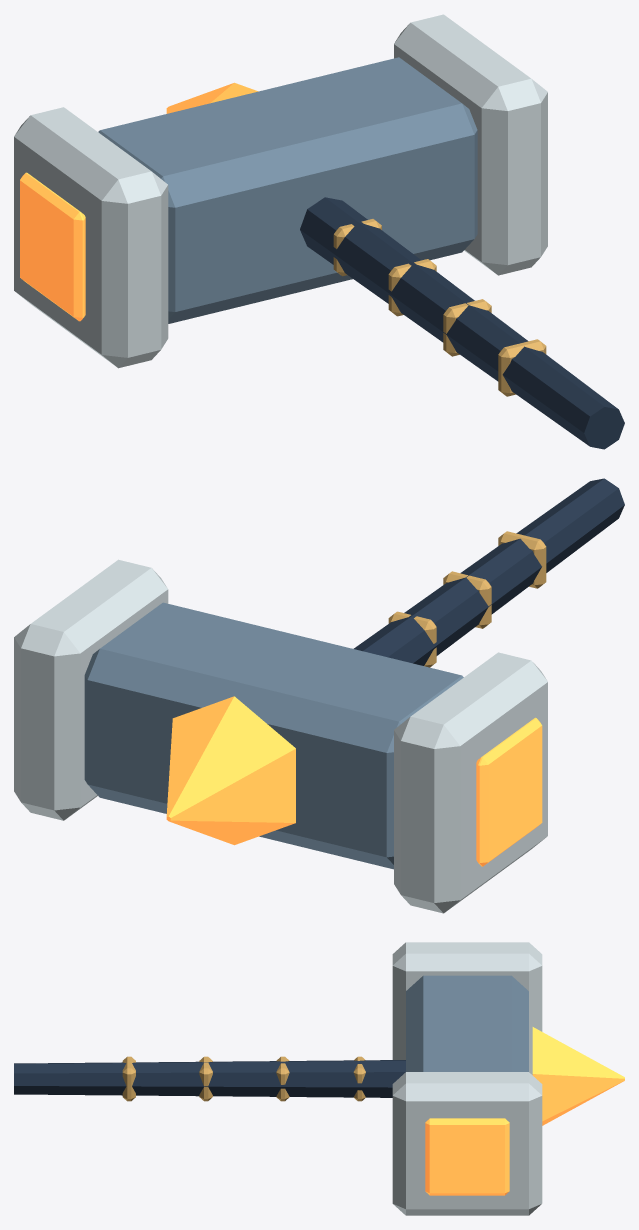
Rendered from guardian_hammer.glb.
The picture shows the model from 3 angles, top to bottom: view 1: azimuth 30°, elevation 25°; view 2: azimuth 150°, elevation 25°; view 3: azimuth 270°, elevation 25°; orthographic projection. The views are drawn at different scales.
Visible parts, largest first — view 1: WPN_CoreHammer_01; view 2: WPN_CoreHammer_01; view 3: WPN_CoreHammer_01.
Boxes of the visible parts, x1=… form: WPN_CoreHammer_01: x1=14, y1=14, x2=624, y2=449; WPN_CoreHammer_01: x1=14, y1=478, x2=624, y2=913; WPN_CoreHammer_01: x1=14, y1=942, x2=624, y2=1215.
Bounding box in the file's own units: 0.987 × 0.38 × 1.59.
